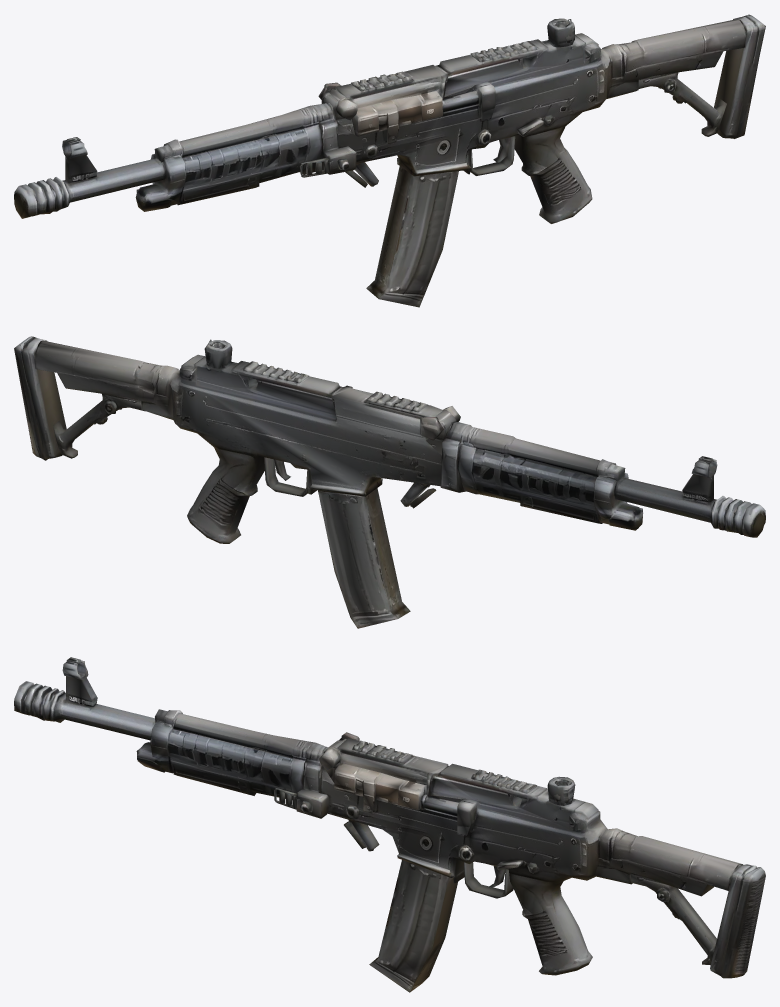
Rendered from handheld_heavy_machine_gun.glb.
3 views of the same model, one above another, from view 1: azimuth 30°, elevation 25°; view 2: azimuth 150°, elevation 25°; view 3: azimuth 330°, elevation 25° (orthographic).
Visible parts, largest first — view 1: tripo_node_ea1f9b7f-49b9-45a3-a222-6673dae906b6; view 2: tripo_node_ea1f9b7f-49b9-45a3-a222-6673dae906b6; view 3: tripo_node_ea1f9b7f-49b9-45a3-a222-6673dae906b6.
Part boxes in pixels (x1,y1,x2,y2): tripo_node_ea1f9b7f-49b9-45a3-a222-6673dae906b6: [14, 14, 765, 307]; tripo_node_ea1f9b7f-49b9-45a3-a222-6673dae906b6: [14, 336, 765, 628]; tripo_node_ea1f9b7f-49b9-45a3-a222-6673dae906b6: [14, 657, 765, 992].
Size of the model in its own units: 0.998 by 0.3184 by 0.0762.
1 material, 1 textured.
